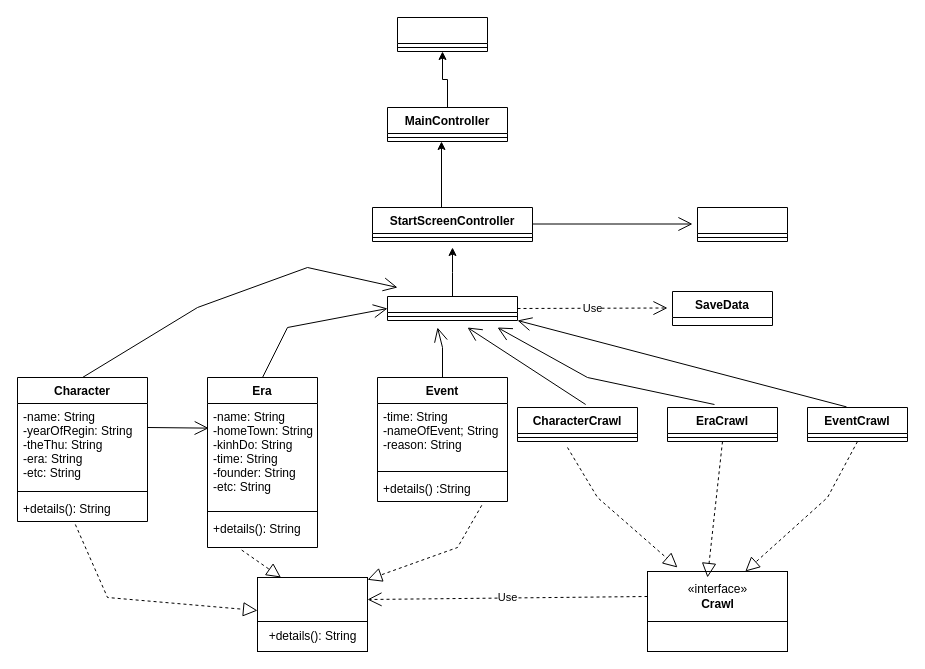
The diagram is 925 pixels wide and 669 high, and some of its shapes have lost their labels. The centre of each missing label's shape, as x and y in pixels:
"+crawlData(): void" belongs at (x=717, y=636).
"Data" belongs at (x=452, y=308).
"Declaration" belongs at (x=742, y=224).
"Main" belongs at (x=442, y=34).
"«interface» History" belongs at (x=312, y=599).
